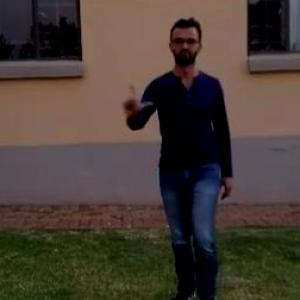land_hand: (114, 82, 152, 116)
